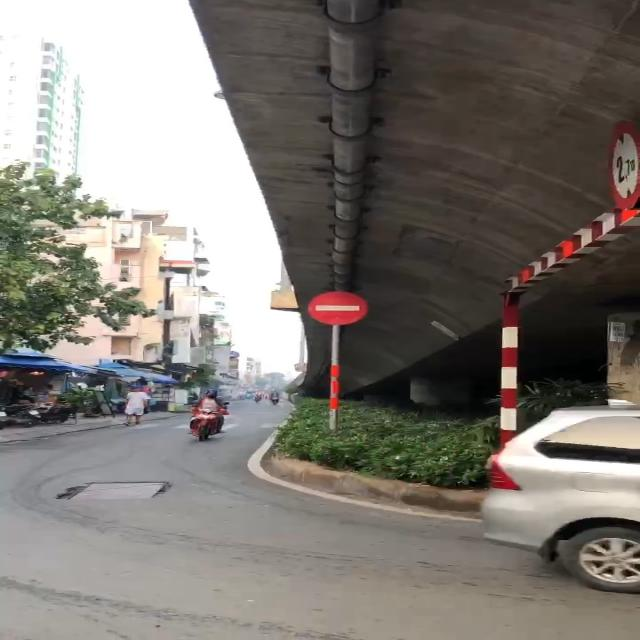Bien bao cam di nguoc chieu: (304, 284, 378, 328)
